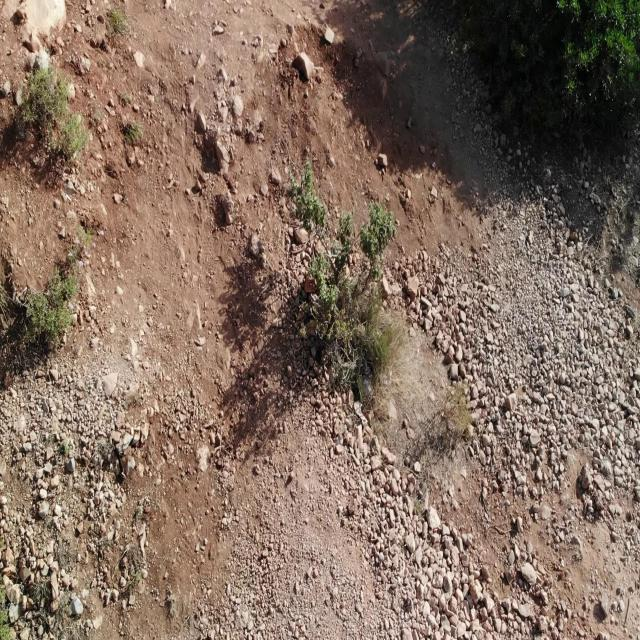boat: (184, 415, 254, 483)
